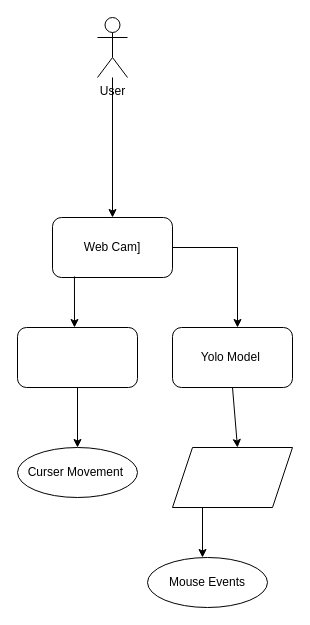
Image size: 310x625. Some labels were removed from this diagram. Here are the shapes that lost their labels. From the top down, the centre of each, then its label:
pixel 77 357: Media Pipe
pixel 232 477: Gesture Recognition
